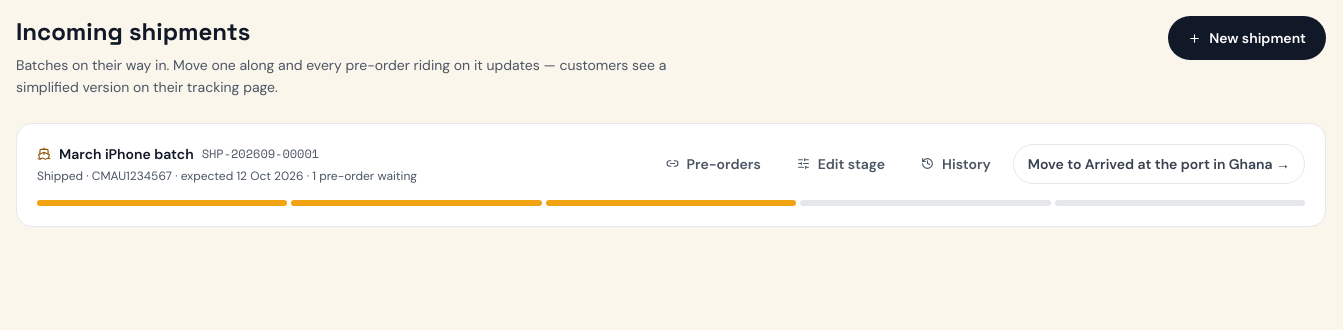
Test: Shipments — attaching pre-orders to a batch › does not offer to attach an order already on this batch
Step 1. Click the button "Pre-orders" → click(713, 164), box [652,145,775,183]
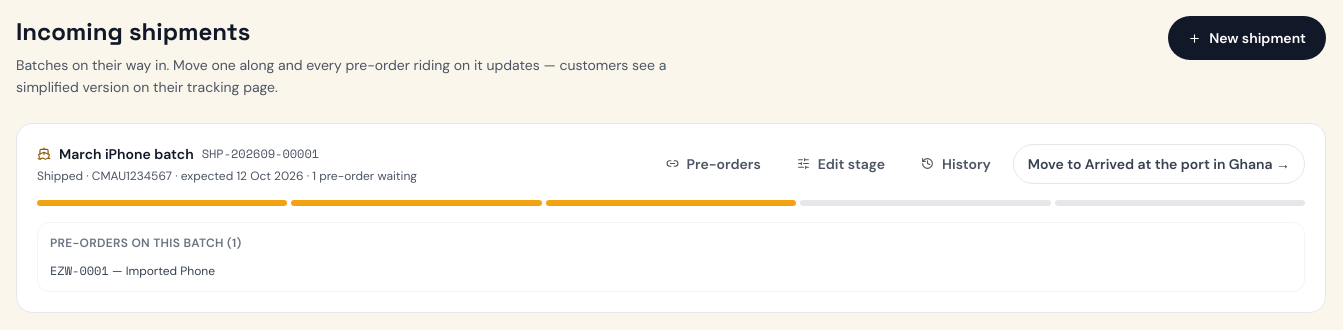
Expected: the text "Pre-orders on this batch (1)" is shown, [50,235,242,251]
